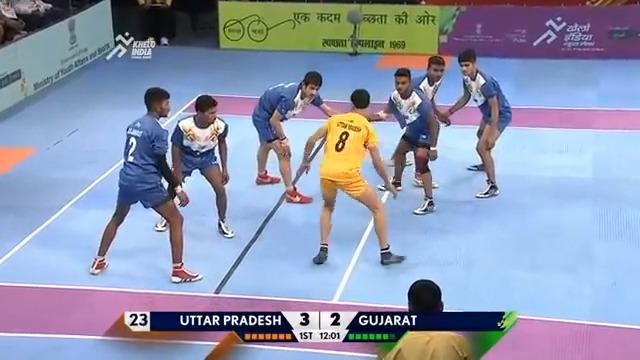Player: (87, 84, 205, 284), (153, 92, 237, 239), (249, 68, 339, 205), (440, 47, 512, 198), (382, 63, 421, 186), (409, 53, 458, 93)
Raider: (299, 87, 407, 269)
referee: (381, 278, 473, 359)
